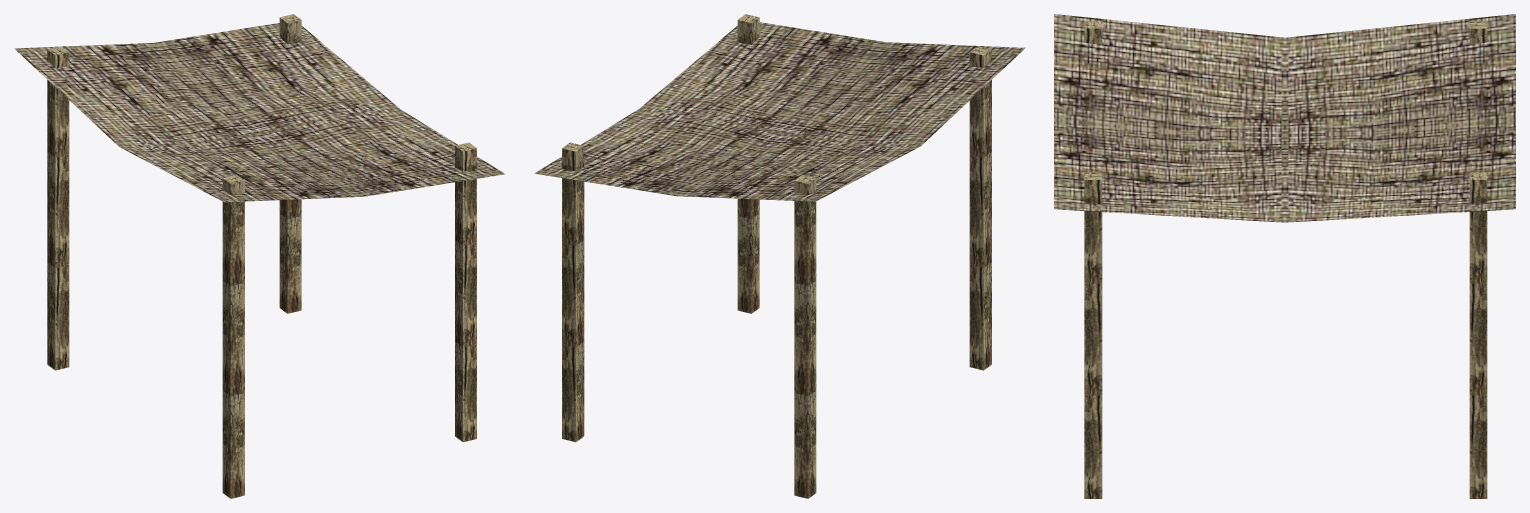
File: Tent01.obj
3 views of the same model, side by side, from view 1: azimuth 30°, elevation 25°; view 2: azimuth 150°, elevation 25°; view 3: azimuth 270°, elevation 25° (orthographic). The views are drawn at different scales.
Visible parts, largest first — view 1: Mesh_0, Mesh_1; view 2: Mesh_0, Mesh_1; view 3: Mesh_0, Mesh_1.
Boxes of the visible parts, box(x1,y1,x2,y2) form: Mesh_0: box(14, 23, 505, 202); Mesh_1: box(47, 14, 476, 498); Mesh_0: box(534, 22, 1025, 201); Mesh_1: box(562, 14, 991, 498); Mesh_0: box(1054, 14, 1515, 222); Mesh_1: box(1084, 21, 1487, 498).
Bounding box in the file's own units: 3.1 × 3.32 × 4.01.
2 materials, 2 textured.
